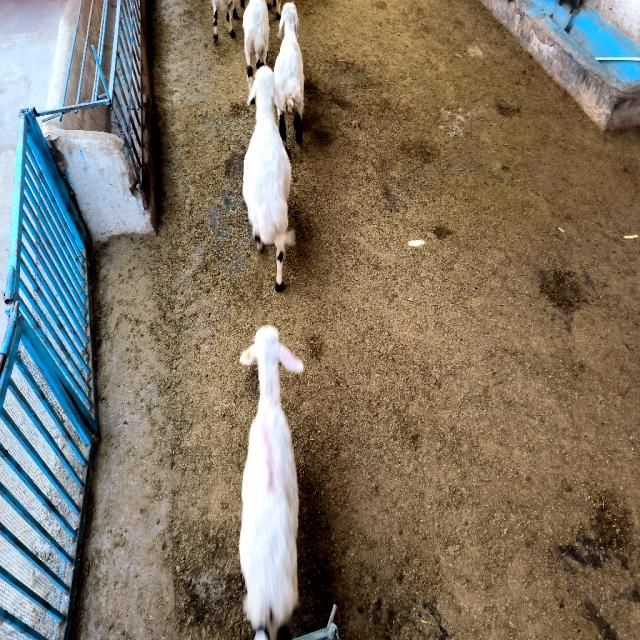sheep: (239, 325, 304, 638), (242, 67, 295, 291), (274, 3, 304, 148), (242, 0, 269, 89)
